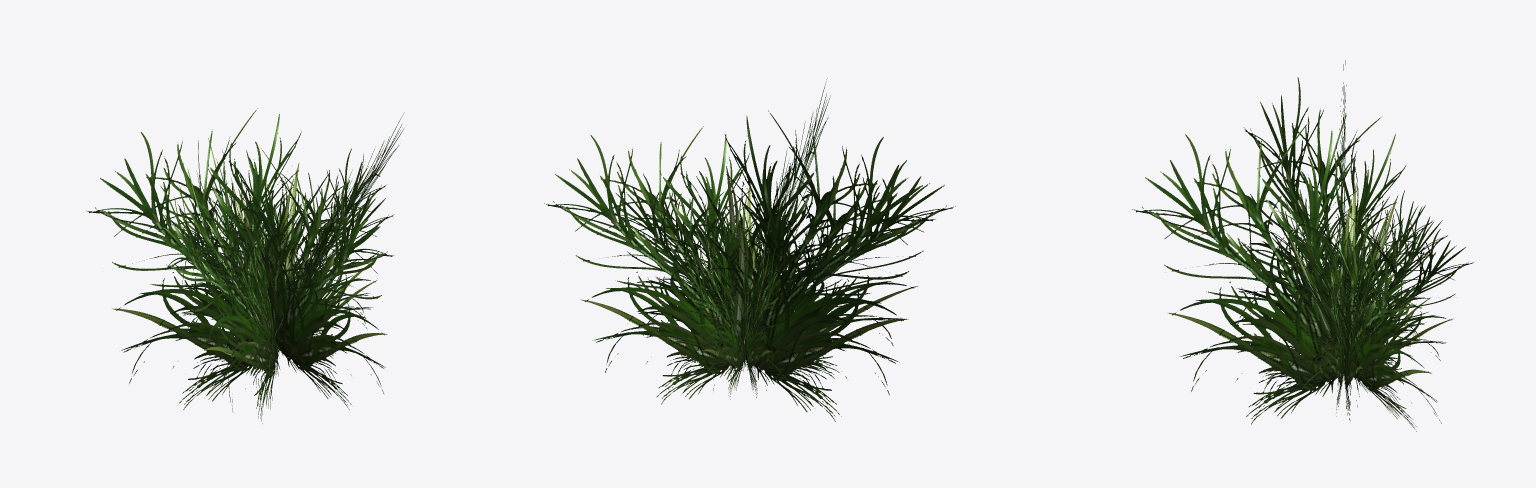
The model's file is Grass_2.fbx.
The picture shows the model from 3 angles, left to right: view 1: azimuth 30°, elevation 25°; view 2: azimuth 150°, elevation 25°; view 3: azimuth 270°, elevation 25°; orthographic projection. The views are drawn at different scales.
Parts seen in each view (by area): view 1: Grass_2; view 2: Grass_2; view 3: Grass_2.
Boxes of the visible parts, x1,y1,x2,y2 form: Grass_2: (86,108,404,423); Grass_2: (544,78,955,421); Grass_2: (1132,60,1473,431).
Size of the model in its own units: 1904 by 1648 by 1552.
